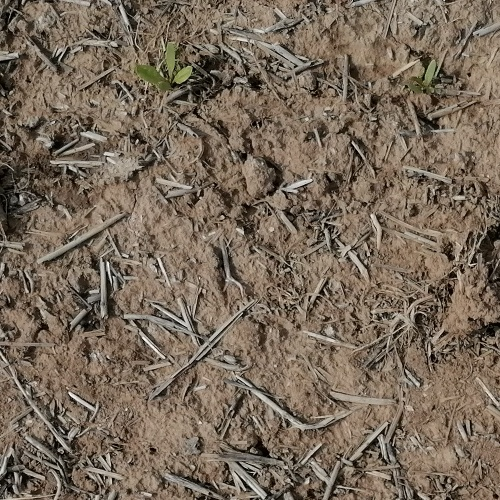beet: (136, 42, 192, 94), (407, 57, 439, 93)
